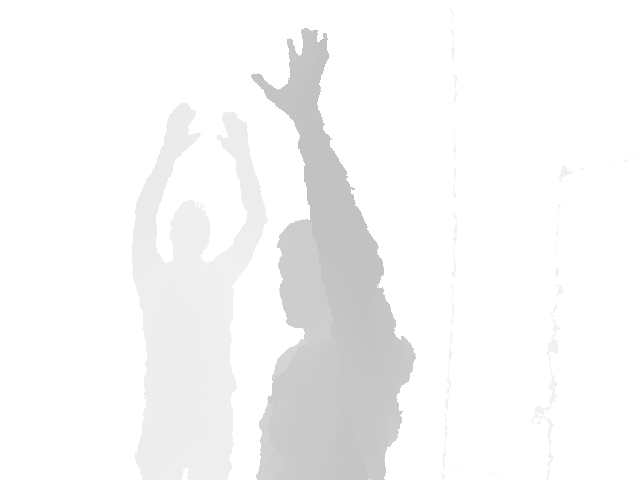hand: (250, 27, 330, 116), (163, 102, 201, 153), (215, 111, 249, 162)
head: (275, 219, 357, 333), (168, 201, 212, 262)
person: (249, 27, 418, 480), (129, 102, 269, 480)
